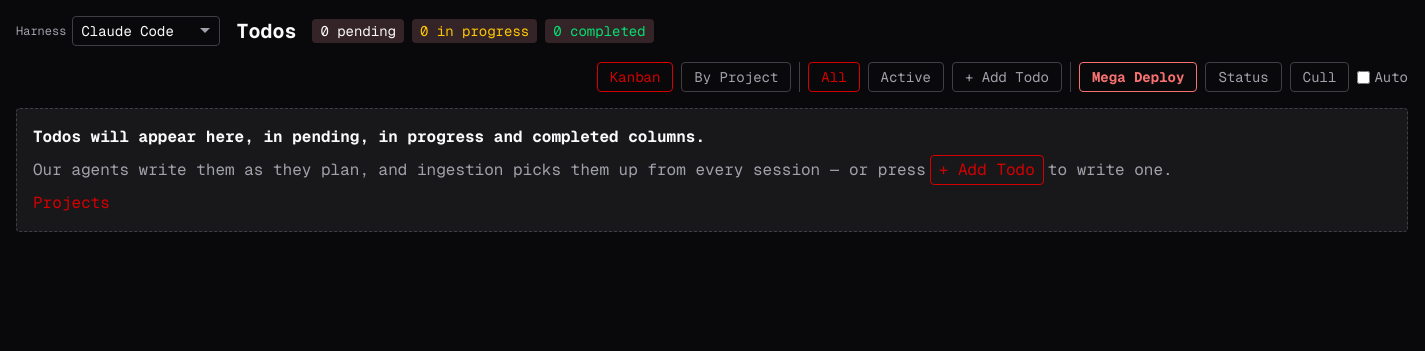
Test: mega deploy › shows why a launch failed rather than reporting a smaller number
Click the button "Mega Deploy" at (1138, 77), box [1079, 62, 1197, 92]
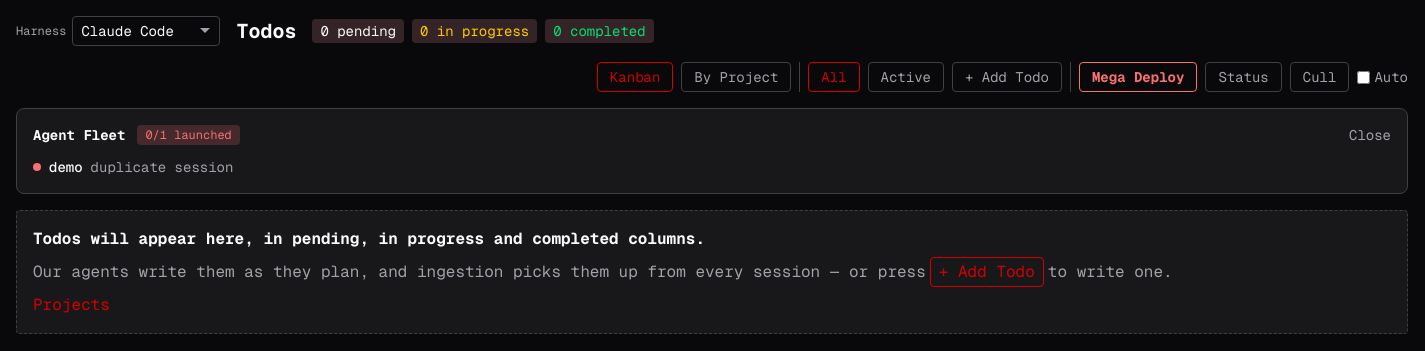
Expected: the text "duplicate session" is shown, [91, 157, 233, 177]
